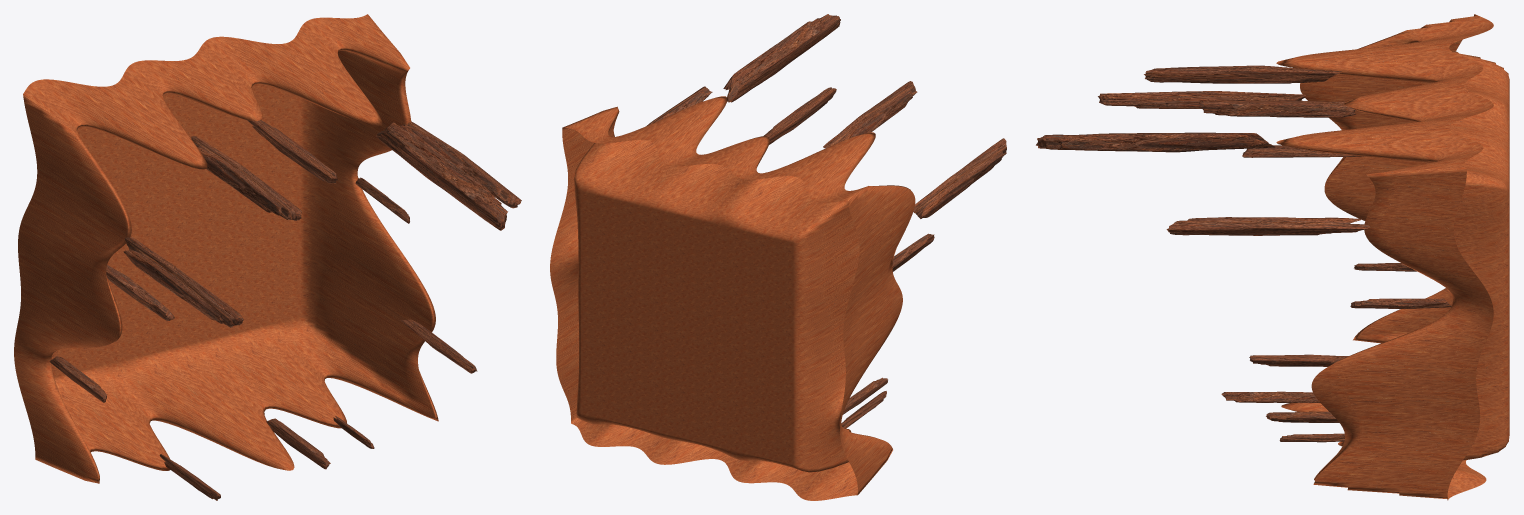
Rendered from sol_mars.obj.
3 renders of one model, left to right at view 1: azimuth 30°, elevation 25°; view 2: azimuth 150°, elevation 25°; view 3: azimuth 270°, elevation 25°, orthographic. The views are drawn at different scales.
Size of the model in its own units: 1.36 by 1.36 by 1.76.
Materials: 2 (2 with a texture image).
